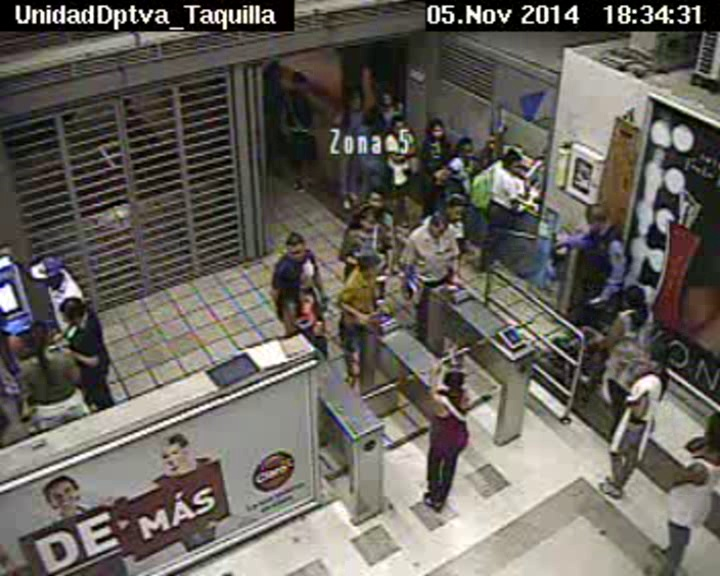person: (690, 411, 720, 443), (36, 257, 65, 287), (58, 297, 88, 326), (441, 361, 469, 392), (282, 228, 310, 259), (622, 283, 650, 313), (583, 202, 611, 232), (644, 340, 672, 369), (25, 320, 52, 350), (277, 262, 304, 290), (355, 252, 379, 279), (427, 210, 450, 237), (445, 199, 468, 224), (366, 189, 387, 211), (360, 210, 381, 232), (455, 136, 475, 159), (427, 118, 448, 139), (504, 149, 523, 172), (388, 114, 408, 135), (288, 71, 308, 92), (362, 106, 381, 126), (380, 90, 396, 107), (347, 91, 363, 108), (266, 50, 280, 66)
